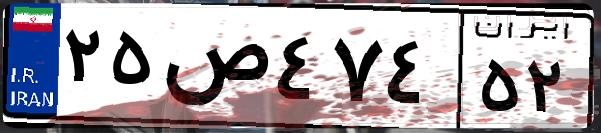2: (57, 26, 110, 100), (525, 38, 570, 115)
4: (270, 28, 330, 110), (385, 28, 445, 110)
5: (475, 38, 525, 113), (110, 28, 158, 98)
7: (330, 28, 385, 110)
ص: (158, 20, 270, 120)
